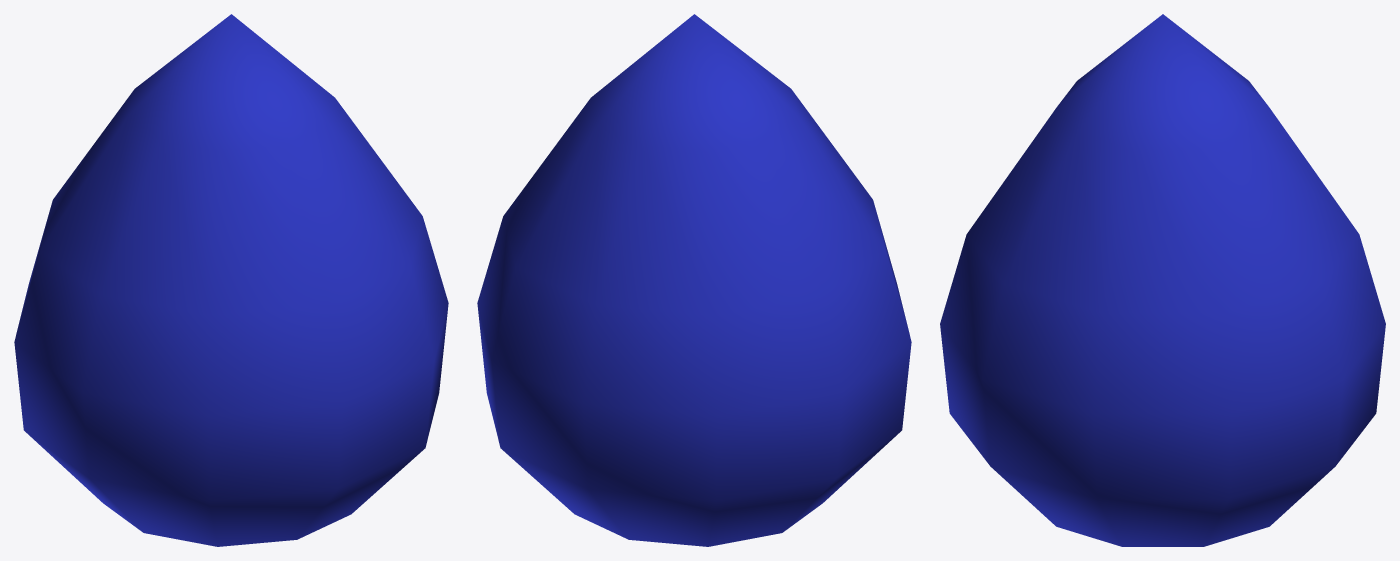
Rendered from waterdruppel.FBX.
The picture shows the model from 3 angles, left to right: view 1: azimuth 30°, elevation 25°; view 2: azimuth 150°, elevation 25°; view 3: azimuth 270°, elevation 25°; orthographic projection.
Visible parts, largest first — view 1: Sphere001; view 2: Sphere001; view 3: Sphere001.
Boxes of the visible parts, box(x1,y1,x2,y2) form: Sphere001: box(14, 14, 448, 546); Sphere001: box(477, 14, 911, 546); Sphere001: box(940, 14, 1385, 546).
Bounding box in the file's own units: 9.68 × 12.84 × 10.17.
